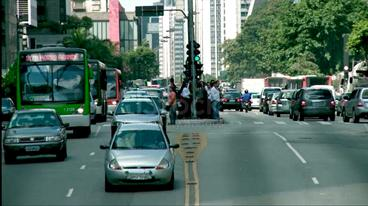bus: (12, 39, 92, 138), (77, 56, 112, 122)
car: (97, 117, 182, 195), (0, 107, 69, 166), (105, 94, 168, 132), (287, 85, 341, 126)
